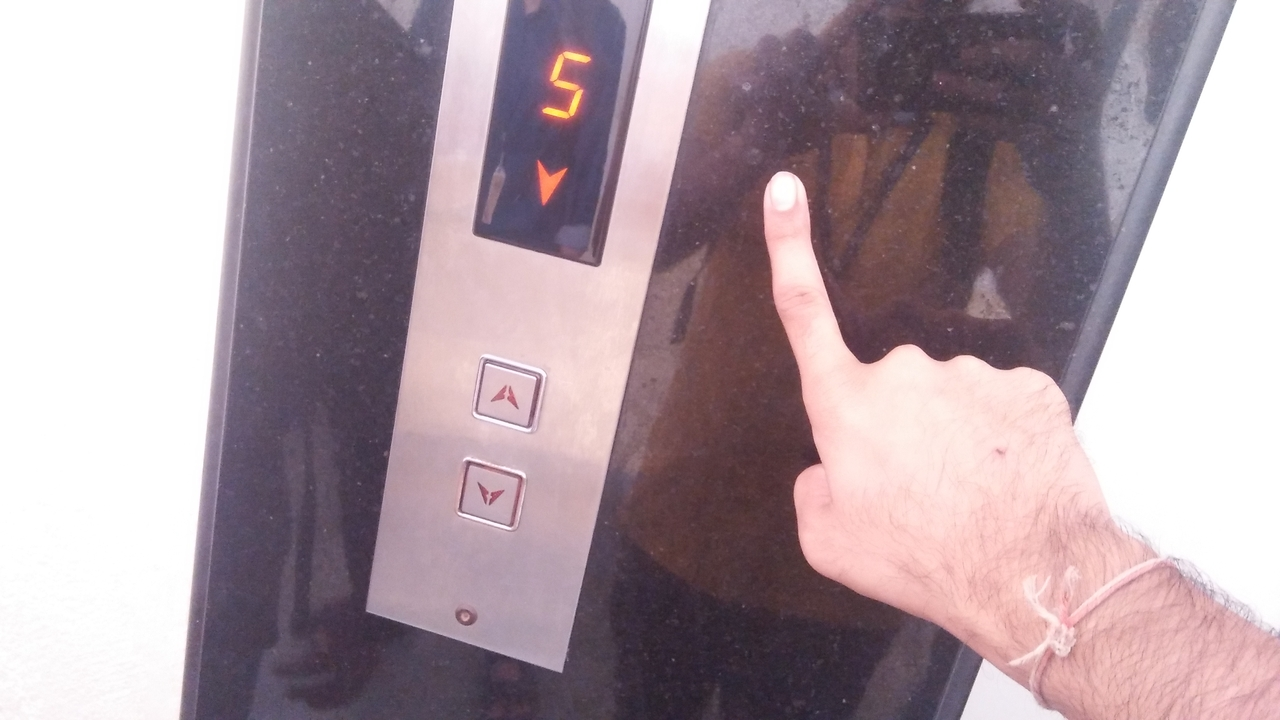fingertip: (756, 160, 820, 224)
